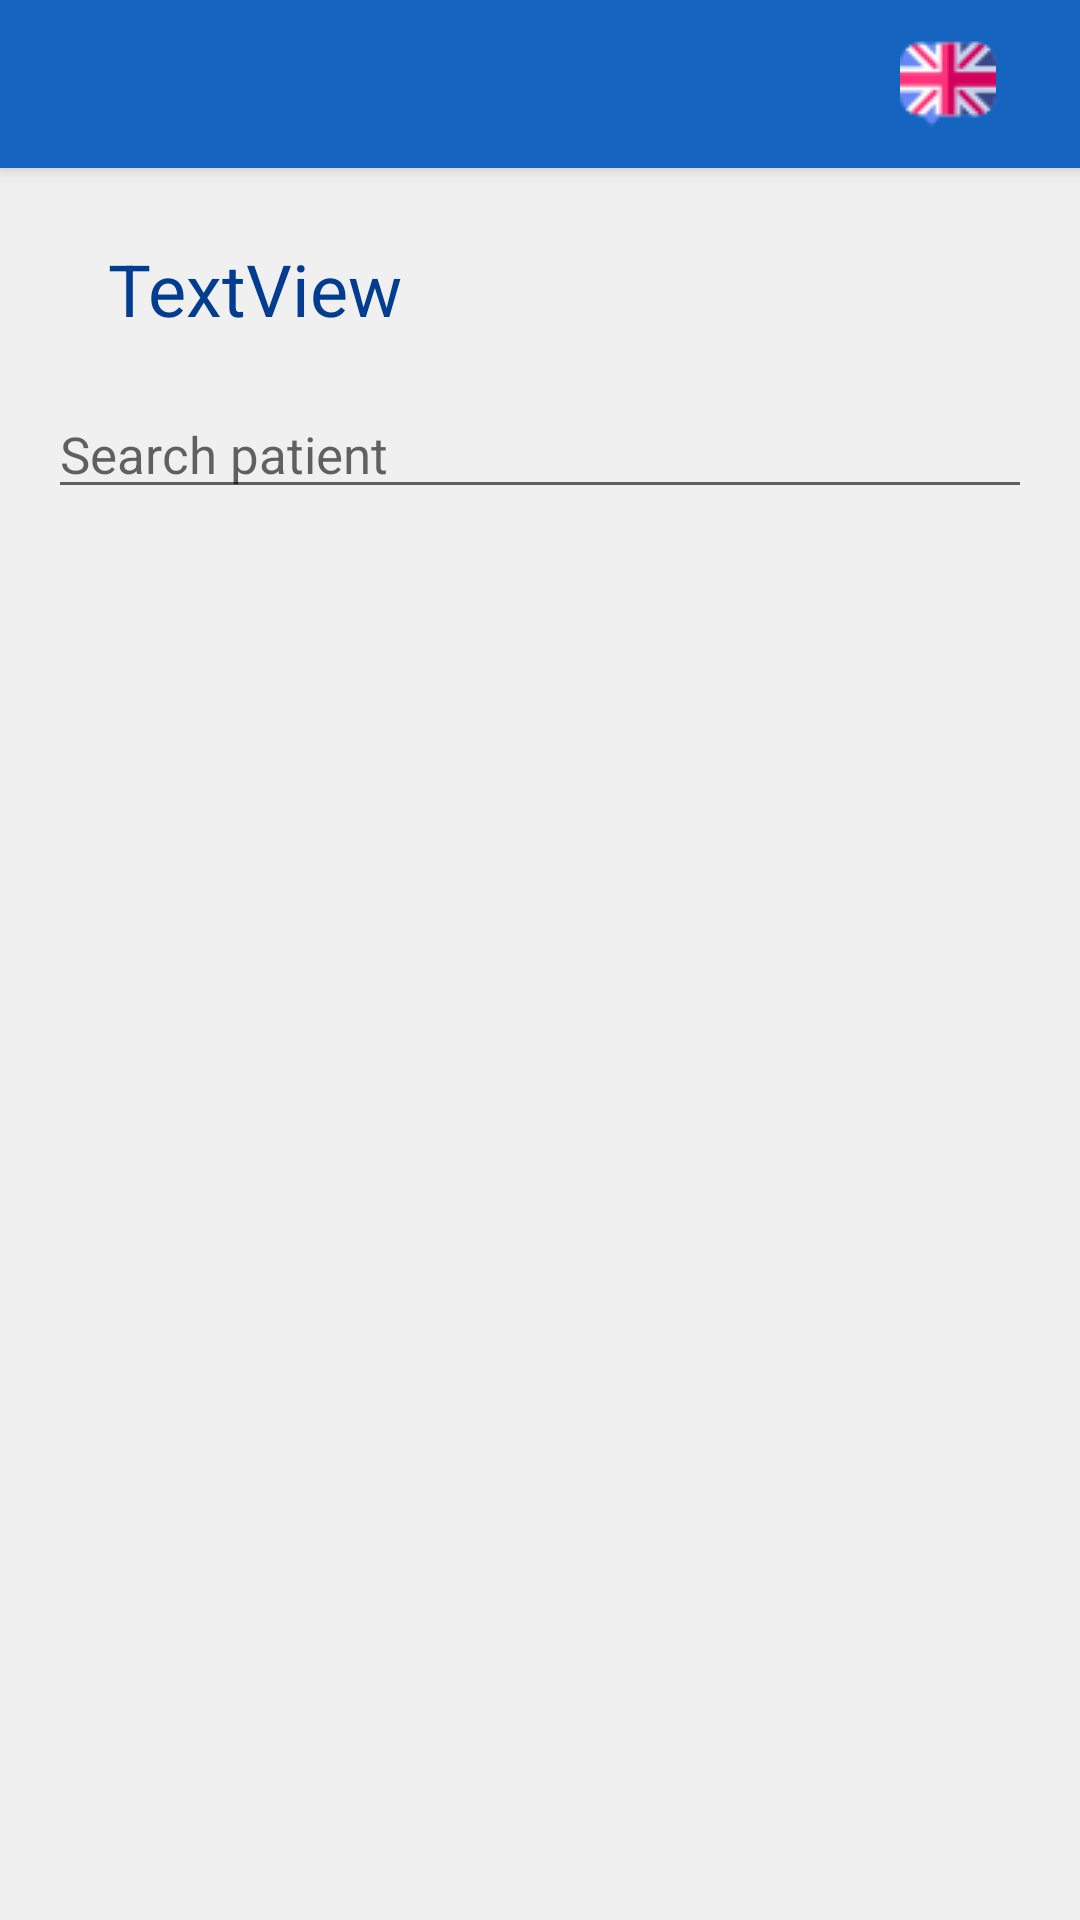

Screen size 1080x1920. Icon name, then its box in pixels as (x1, y1, x2, y2):
lang: (900, 41, 996, 125)
